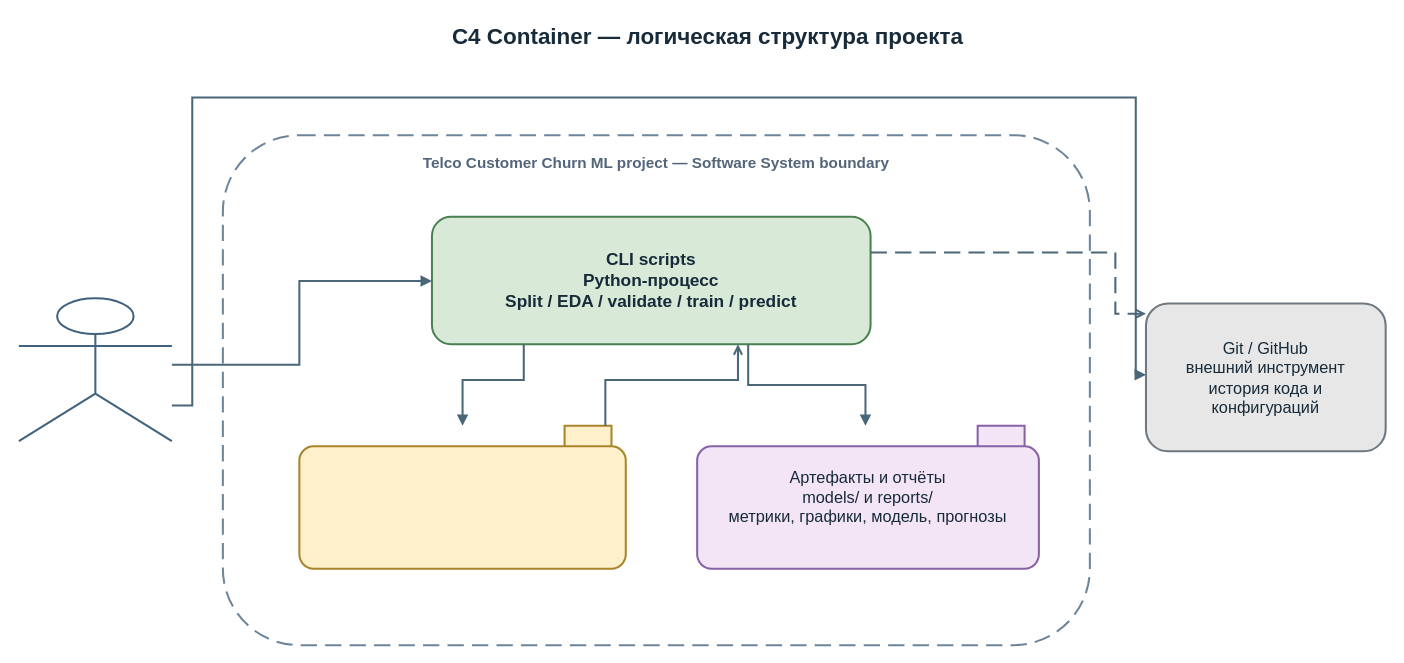
This 1404x663 diagram has some shape labels left out. The shapes that lost their labels are listed below. From the top down, each one's centre as x and y in pixels, then its label:
point 94,369: Специалист по данным
point 462,496: Хранилище данных data/raw, initial, incoming, processed локальные CSV-файлы
